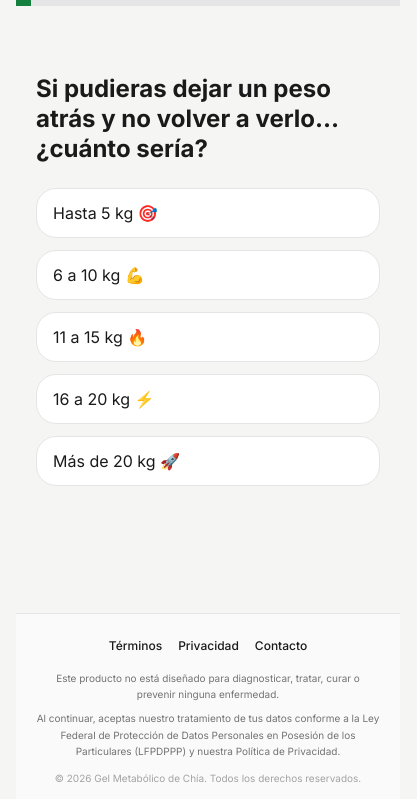
Test: QuizFunnel › avanza a la siguiente pantalla y guarda la respuesta al seleccionar una opción
The width and height of the screenshot is (417, 799).
Click the button "Hasta 5 kg 🎯": {"x": 105, "y": 213} top-left (36, 188), bottom-right (380, 238)
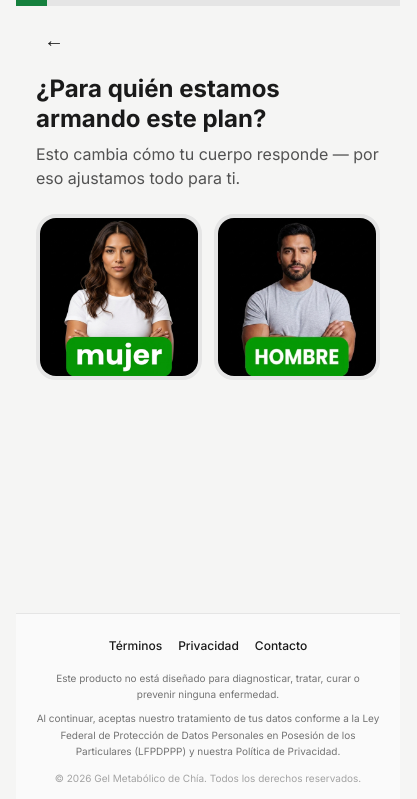
Expected: the heading "¿Para quién estamos armando este plan?" is shown, top-left (36, 74), bottom-right (280, 133)
